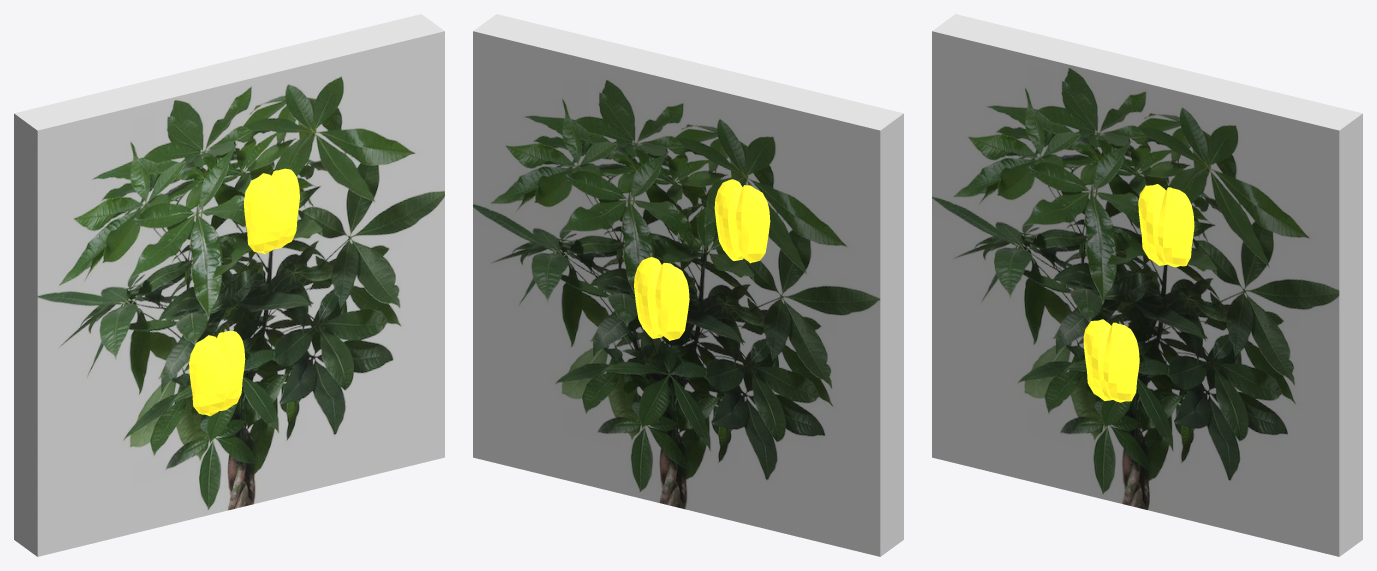
Rendered from pepper_4.dae.
3 renders of one model, left to right at view 1: azimuth 30°, elevation 25°; view 2: azimuth 150°, elevation 25°; view 3: azimuth 330°, elevation 25°, orthographic.
Visible parts, largest first — view 1: Cube, Sphere.004, Sphere.003; view 2: Cube, Sphere.002, Sphere.001; view 3: Cube, Sphere.004, Sphere.003.
Part boxes in pixels (x1,y1,x2,y2): Cube: (14, 14, 444, 556); Sphere.004: (244, 168, 299, 254); Sphere.003: (189, 330, 245, 416); Cube: (473, 14, 903, 556); Sphere.002: (714, 179, 770, 263); Sphere.001: (634, 257, 689, 340); Cube: (932, 14, 1362, 556); Sphere.004: (1138, 184, 1194, 267); Sphere.003: (1083, 319, 1139, 402).
Bounding box in the file's own units: 1 × 0.1795 × 1.
2 materials, 1 textured.
